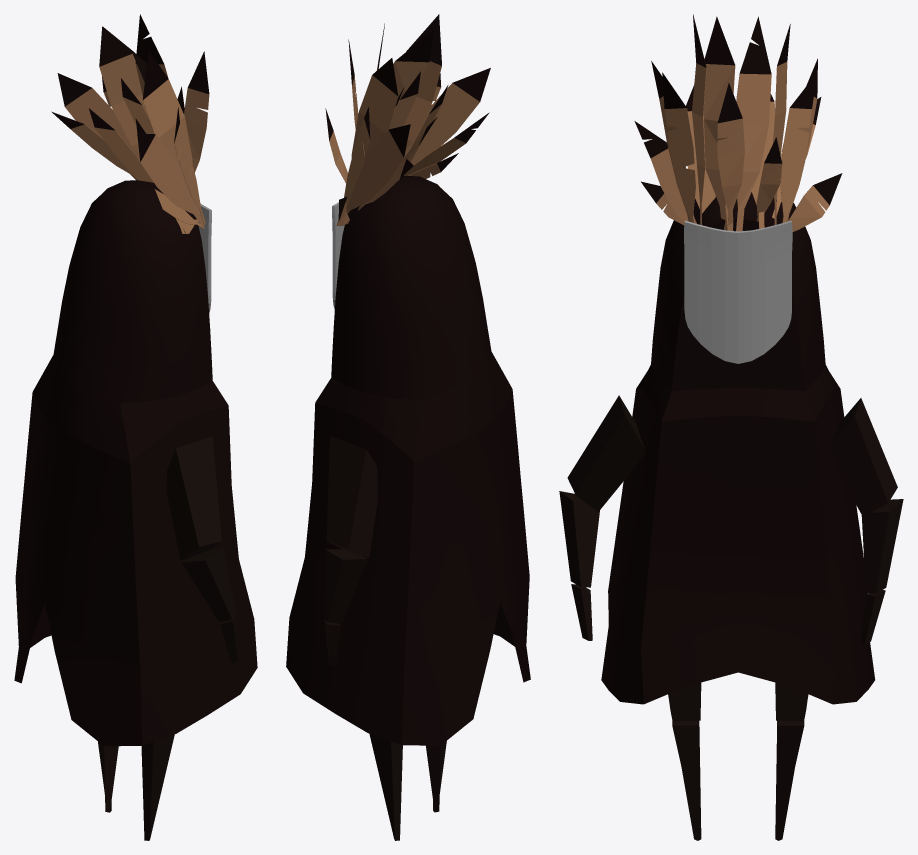
The model's file is persmain.obj.
3 renders of one model, left to right at view 1: azimuth 30°, elevation 25°; view 2: azimuth 150°, elevation 25°; view 3: azimuth 270°, elevation 25°, orthographic. The views are drawn at different scales.
Visible parts, largest first — view 1: Cube_Cube.001; view 2: Cube_Cube.001; view 3: Cube_Cube.001.
Boxes of the visible parts, left/top/right/bottom form: Cube_Cube.001: left=14, top=14, right=257, bottom=840; Cube_Cube.001: left=286, top=14, right=530, bottom=840; Cube_Cube.001: left=559, top=14, right=903, bottom=840.
Size of the model in its own units: 4.05 by 17.85 by 6.68.
